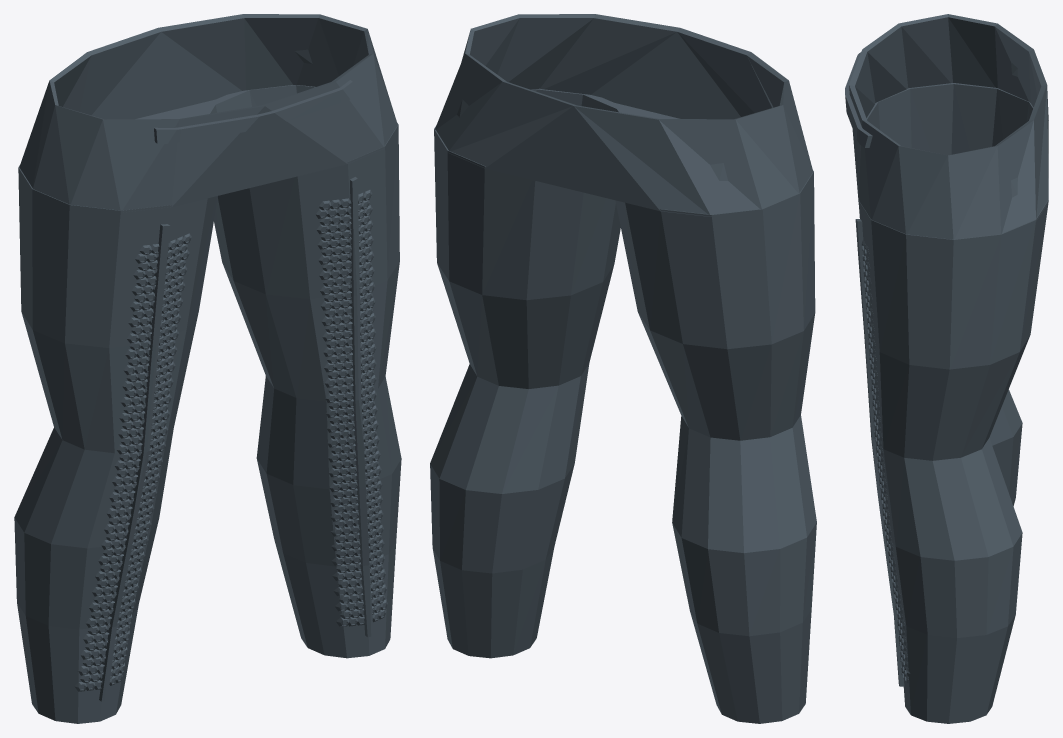
The model's file is chain_legs-female.glb.
The picture shows the model from 3 angles, left to right: view 1: azimuth 30°, elevation 25°; view 2: azimuth 150°, elevation 25°; view 3: azimuth 270°, elevation 25°; orthographic projection. The views are drawn at different scales.
Parts seen in each view (by area): view 1: chain trouser leg -1, chain trouser leg 1, chain trouser pelvis yoke, chain woven coverage on chain trouser leg 1, chain woven coverage on chain trouser leg -1, Trouser reinforced front seam 1, Trouser reinforced front seam -1, Trouser waist facing; view 2: chain trouser leg -1, chain trouser leg 1, chain trouser pelvis yoke; view 3: chain trouser leg 1, chain trouser pelvis yoke, chain trouser leg -1, chain woven coverage on chain trouser leg 1, Trouser reinforced front seam 1, Trouser waist facing.
Part boxes in pixels (x1=…): chain trouser leg -1: x1=14, y1=165, x2=217, y2=723; chain trouser leg 1: x1=200, y1=85, x2=401, y2=658; chain trouser pelvis yoke: x1=19, y1=14, x2=397, y2=212; chain woven coverage on chain trouser leg 1: x1=315, y1=190, x2=387, y2=626; chain woven coverage on chain trouser leg -1: x1=74, y1=233, x2=191, y2=691; Trouser reinforced front seam 1: x1=350, y1=177, x2=373, y2=637; Trouser reinforced front seam -1: x1=99, y1=224, x2=170, y2=701; Trouser waist facing: x1=154, y1=80, x2=355, y2=143; chain trouser leg -1: x1=615, y1=170, x2=816, y2=723; chain trouser leg 1: x1=430, y1=88, x2=628, y2=658; chain trouser pelvis yoke: x1=435, y1=14, x2=813, y2=216; chain trouser leg 1: x1=858, y1=199, x2=1048, y2=723; chain trouser pelvis yoke: x1=849, y1=14, x2=1048, y2=239; chain trouser leg -1: x1=866, y1=83, x2=1033, y2=505; chain woven coverage on chain trouser leg 1: x1=861, y1=240, x2=910, y2=683; Trouser reinforced front seam 1: x1=855, y1=219, x2=904, y2=686; Trouser waist facing: x1=845, y1=52, x2=872, y2=147.
Bounding box in the file's own units: 2.19 × 3.45 × 1.13.
